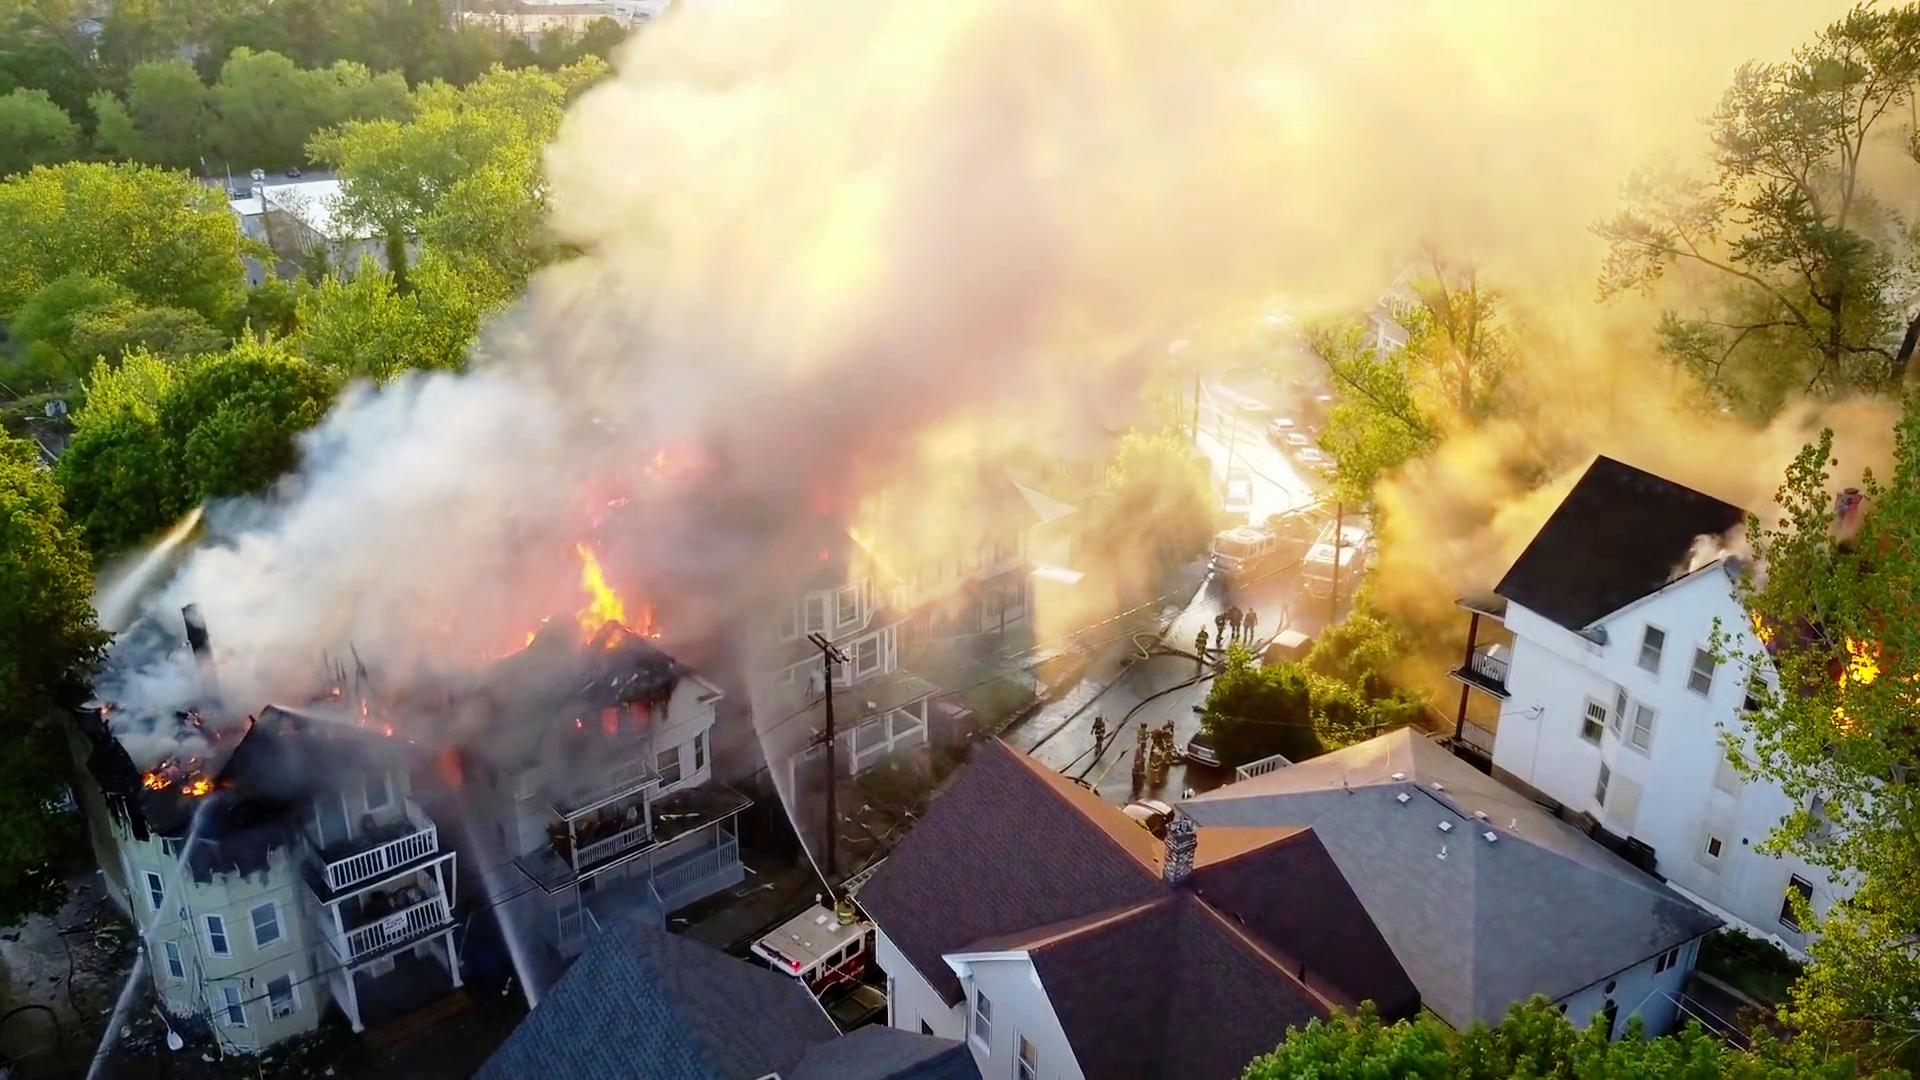fire: (558, 503, 663, 626)
smoke: (721, 10, 1675, 239), (631, 13, 926, 435), (283, 448, 501, 652)
